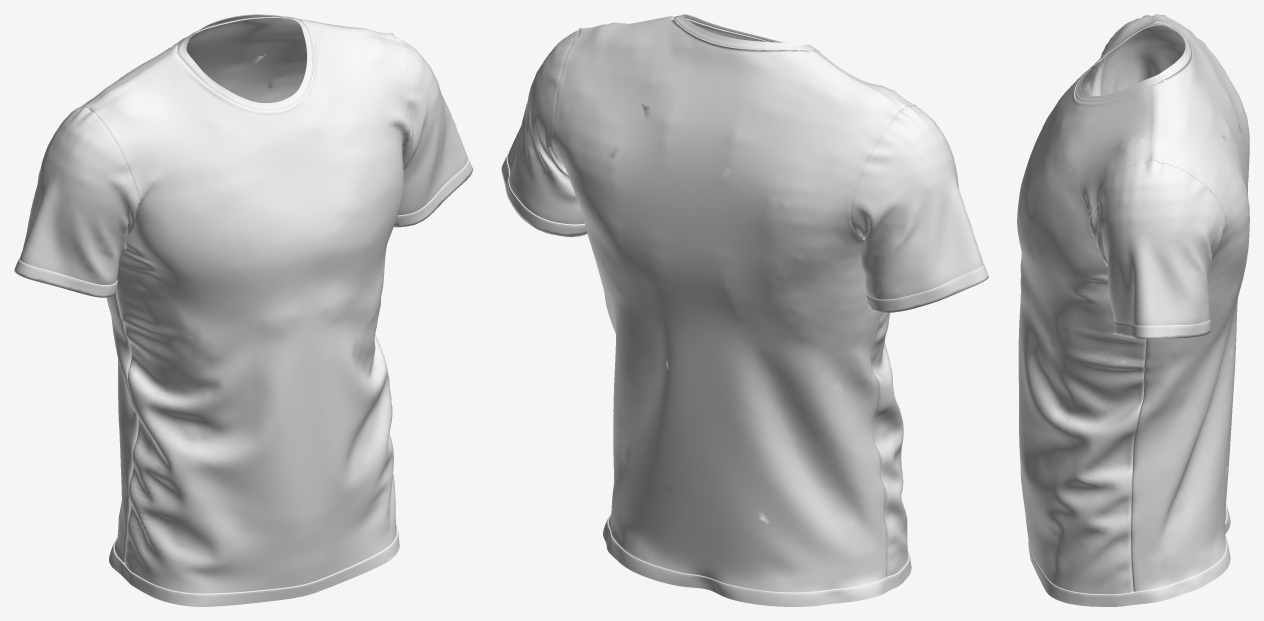
File: tshirt-hd.glb
3 renders of one model, left to right at view 1: azimuth 30°, elevation 25°; view 2: azimuth 150°, elevation 25°; view 3: azimuth 270°, elevation 25°, orthographic. The views are drawn at different scales.
Visible parts, largest first — view 1: T_Shirt_exterieur_ext_0_0, T_Shirt_int_int_0_1; view 2: T_Shirt_exterieur_ext_0_0, T_Shirt_int_int_0_1; view 3: T_Shirt_exterieur_ext_0_0, T_Shirt_int_int_0_1.
Part boxes in pixels (<box>): T_Shirt_exterieur_ext_0_0: <box>14,16,472,606</box>; T_Shirt_int_int_0_1: <box>140,14,409,204</box>; T_Shirt_exterieur_ext_0_0: <box>501,14,988,606</box>; T_Shirt_int_int_0_1: <box>673,14,805,50</box>; T_Shirt_exterieur_ext_0_0: <box>1017,14,1249,606</box>; T_Shirt_int_int_0_1: <box>1080,23,1190,508</box>.
Bounding box in the file's own units: 0.6394 × 0.6992 × 0.2895.
2 materials, 2 textured.
